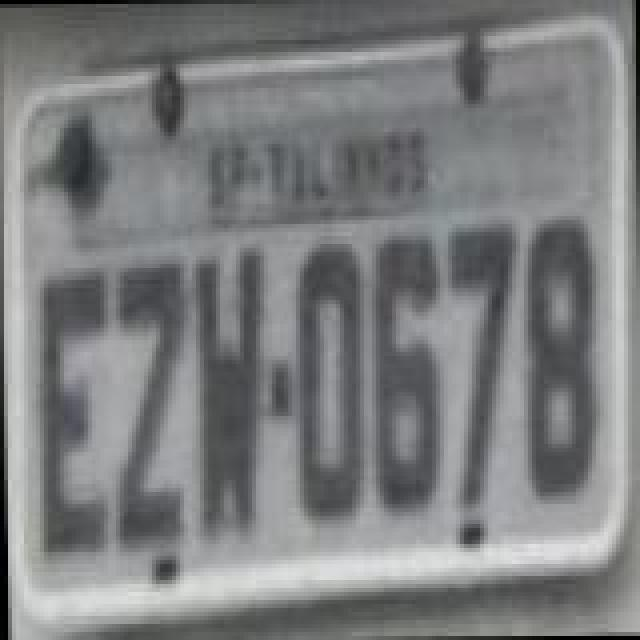6: (364, 232, 440, 516)
7: (446, 220, 518, 512)
8: (518, 222, 598, 506)
E: (34, 270, 110, 562)
O: (294, 242, 370, 526)
W: (192, 252, 264, 544)
Z: (108, 262, 188, 546)
